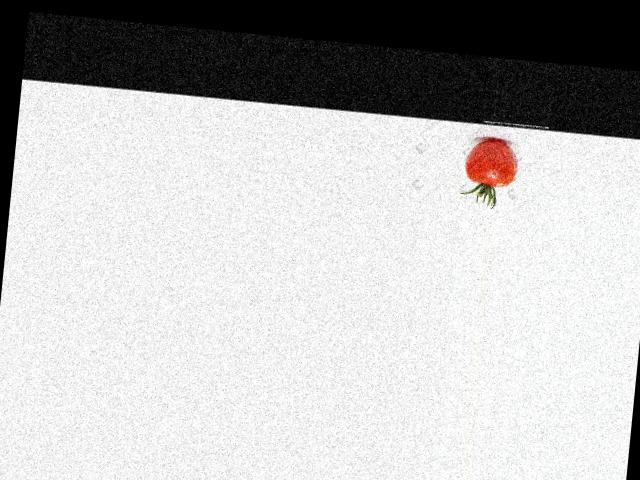tomato: (463, 137, 519, 187)
